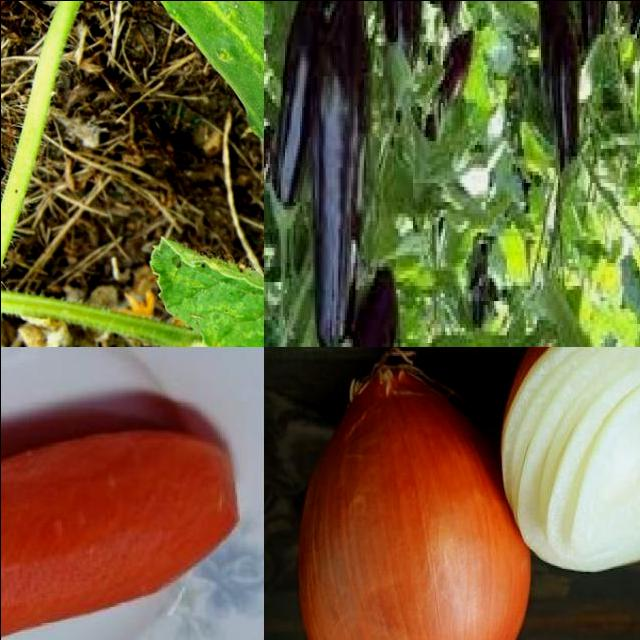carrot: (1, 426, 243, 640)
cucumber: (85, 1, 264, 347)
eggplant: (315, 1, 364, 347), (539, 1, 582, 182), (333, 268, 399, 347), (379, 1, 430, 100)
onion: (299, 352, 533, 640), (499, 347, 640, 573)
